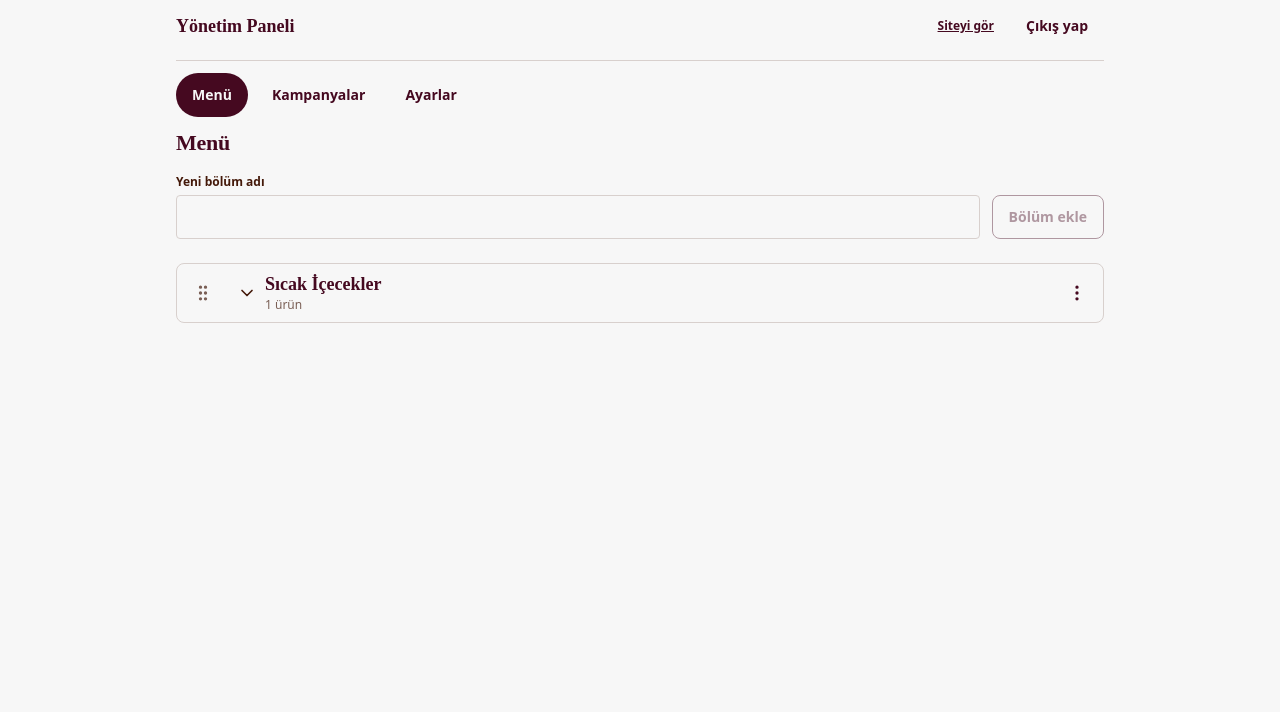
admin panel › starts categories collapsed and saves a price change with one Kaydet
Expected: the text "Örnek Ürün" is not shown
Click the button "Sıcak İçecekler 1 ürün": (323, 284) left=229, top=268, right=1051, bottom=318
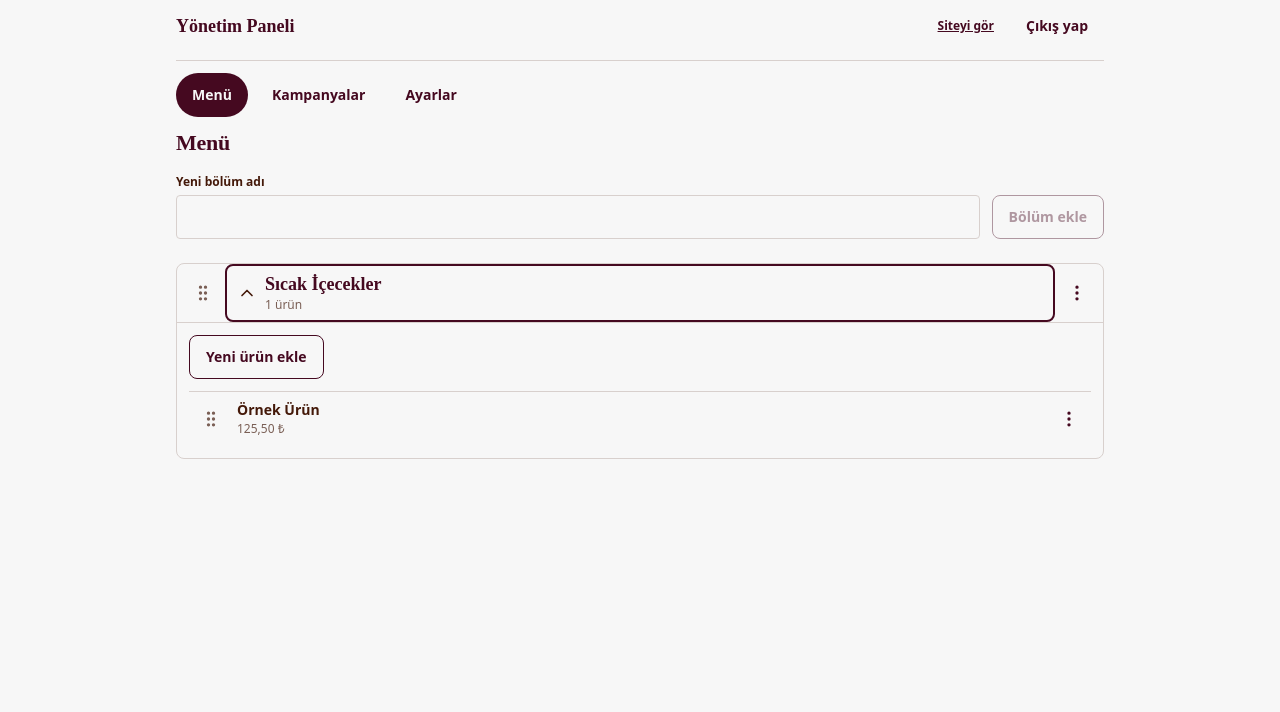
Click the button named "Örnek Ürün: İşlemler": (1069, 419) left=1047, top=397, right=1091, bottom=441
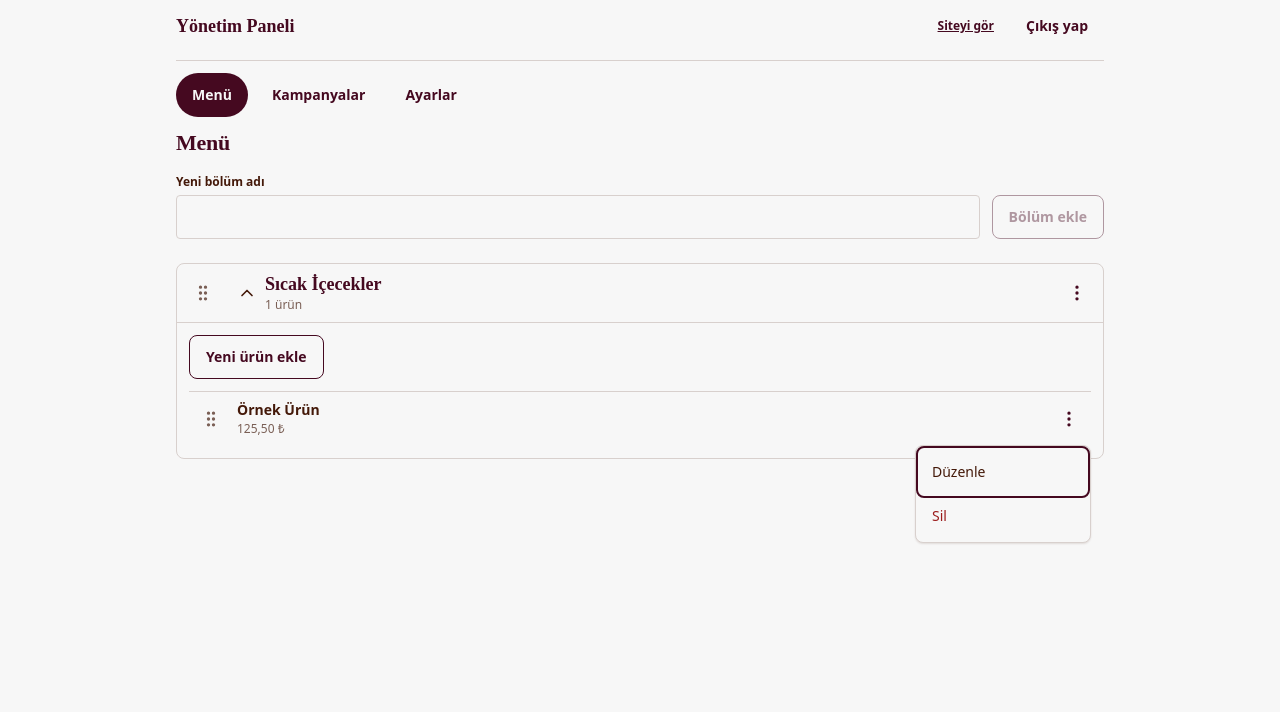
Click the menu item "Düzenle": (1003, 472) left=920, top=450, right=1086, bottom=494
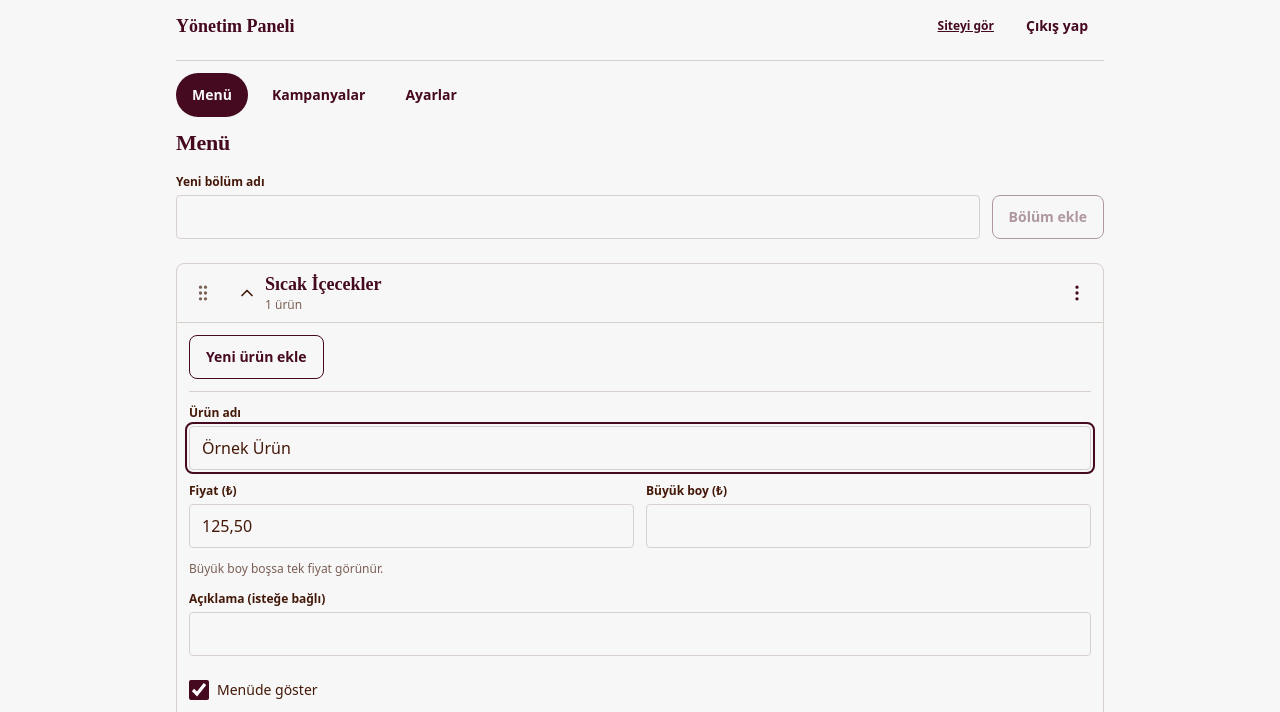
Result: the field labelled "Fiyat (₺)" holds "125,50"
Replace the text in the field labelled "Fiyat (₺)" with "140": (412, 526) left=189, top=504, right=634, bottom=548
(page scrolled)
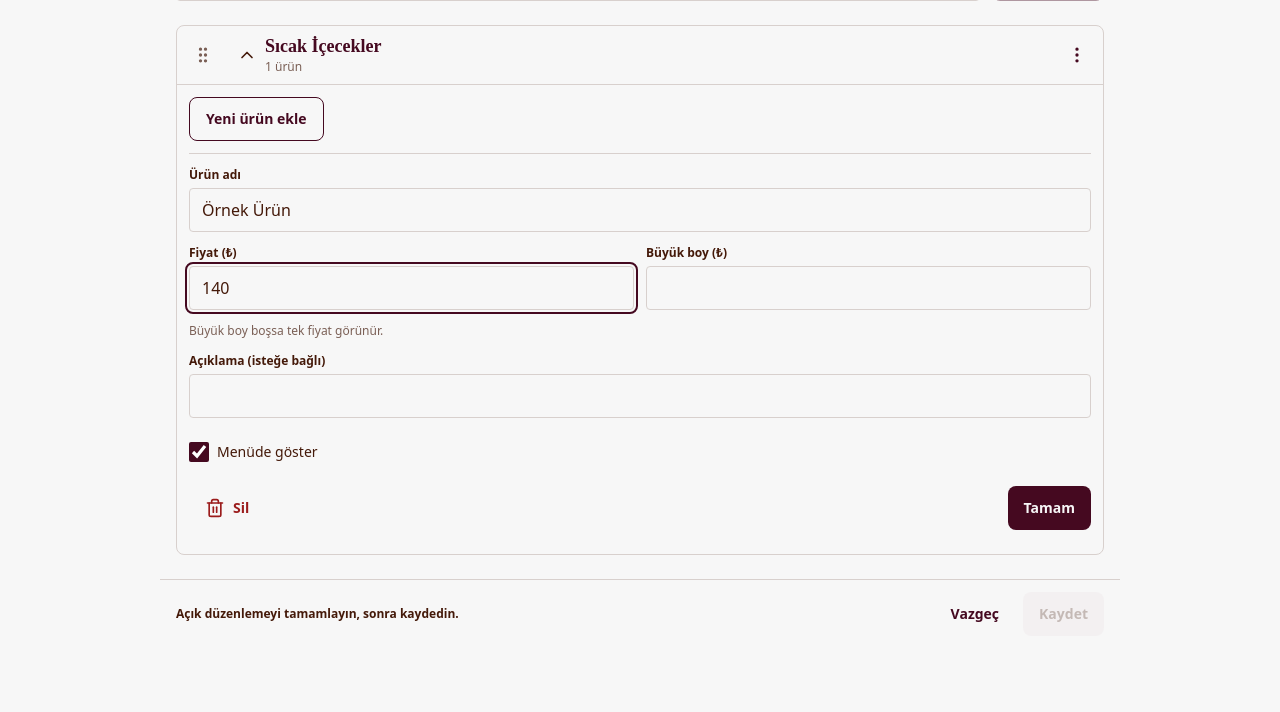
Click the button "Tamam": (1049, 508) left=1008, top=486, right=1091, bottom=530
(page scrolled)
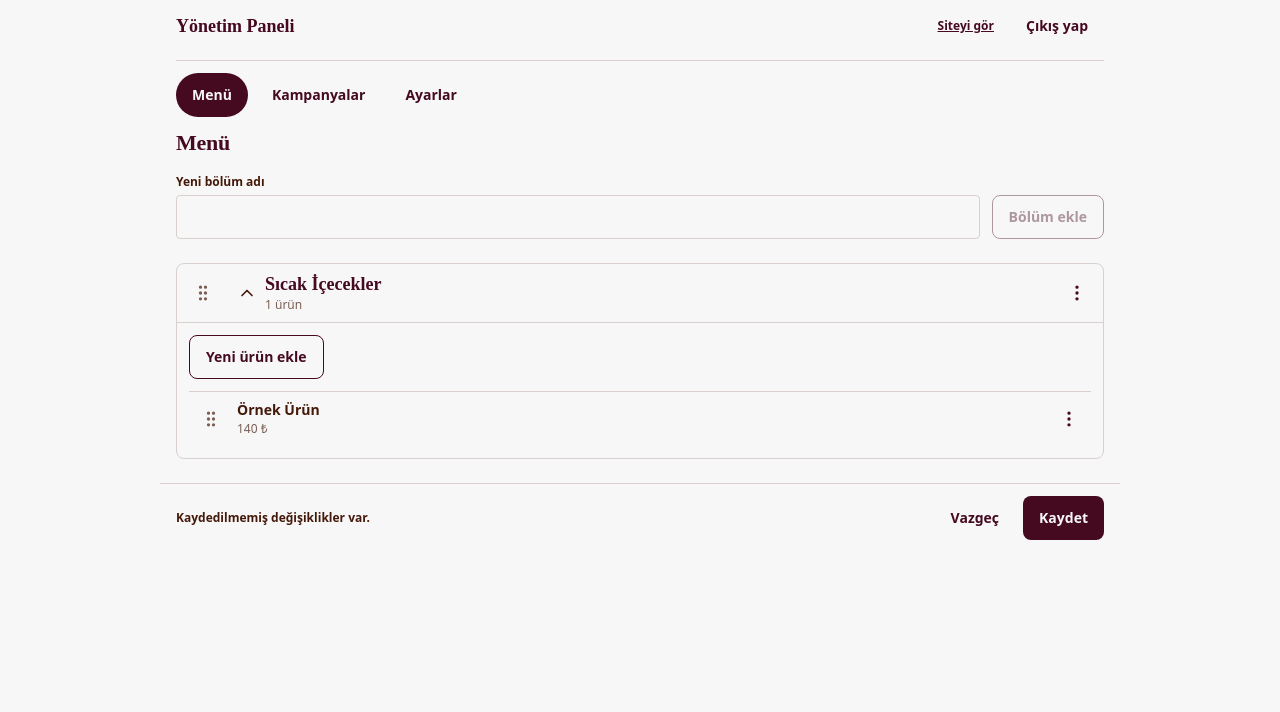
Click the button "Kaydet": (1064, 518) left=1023, top=496, right=1104, bottom=540
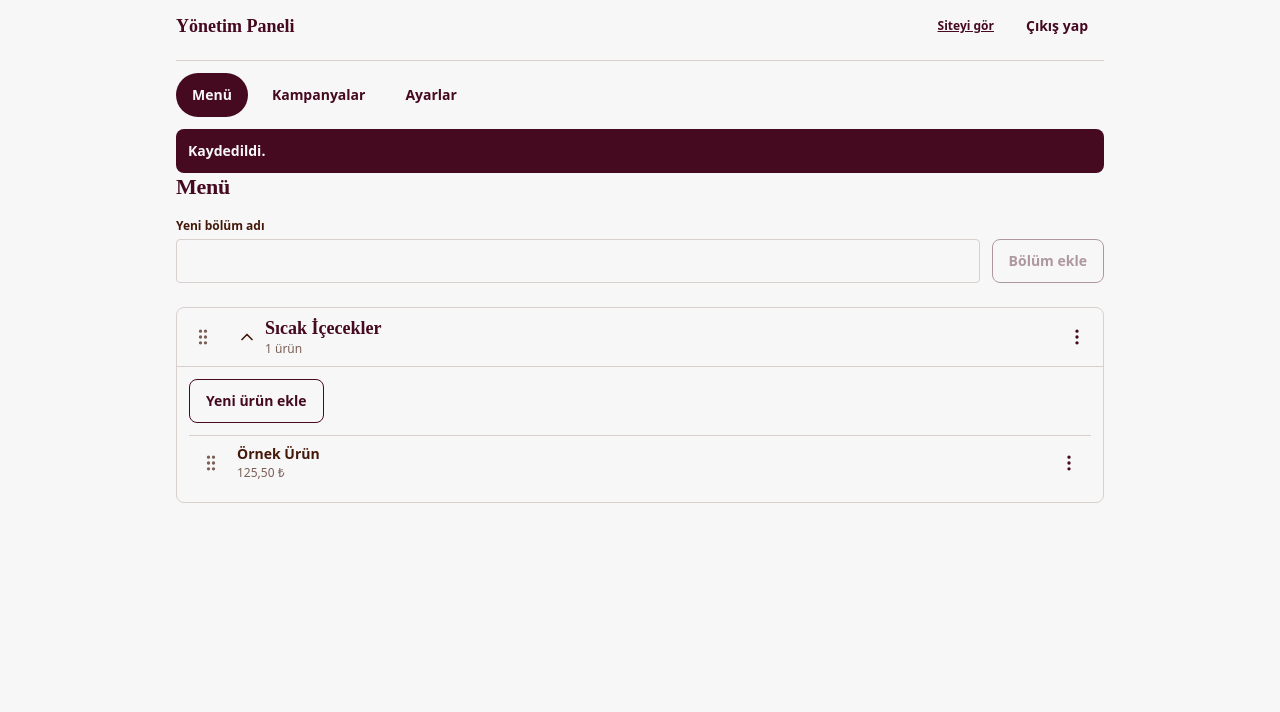
Result: the text "Kaydedildi." is shown at left=176, top=129, right=1104, bottom=173
